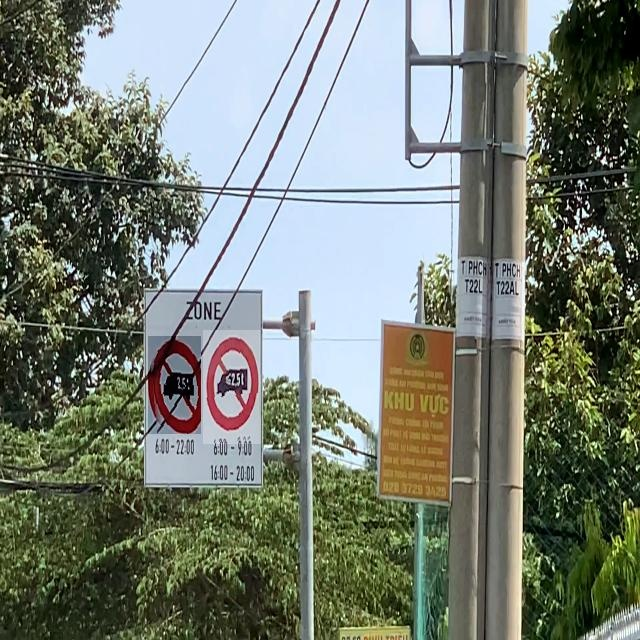bien_cam: (203, 330, 261, 444), (148, 336, 201, 434)
